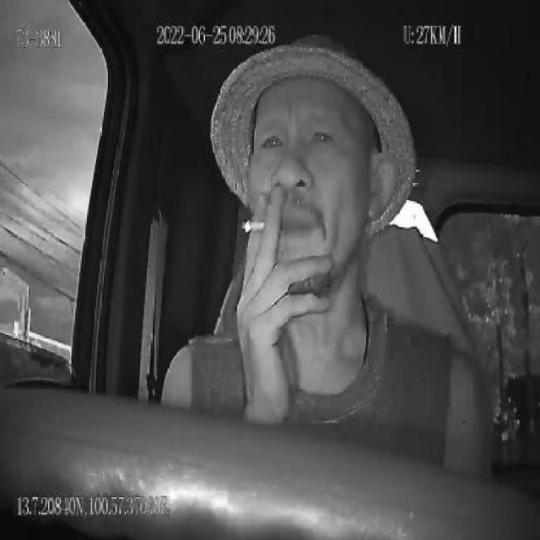smoking: (241, 217, 268, 236)
